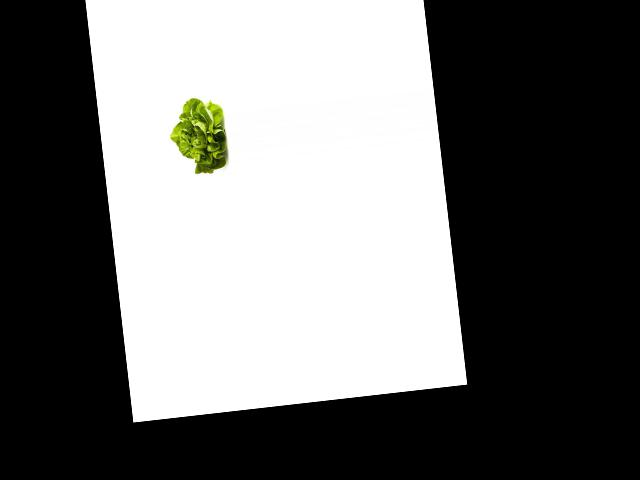lettuce: (166, 92, 230, 178)
